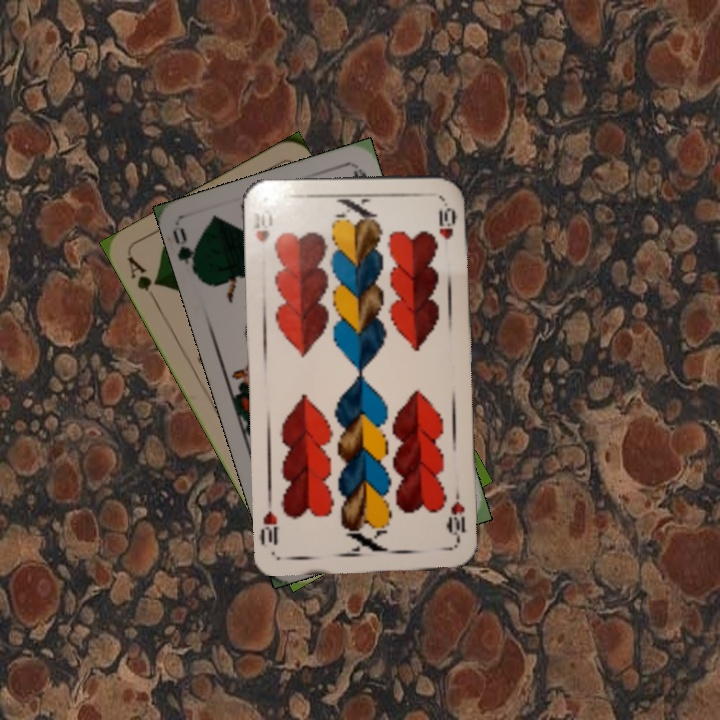GA: (124, 252, 162, 307)
GO: (168, 224, 201, 281)
H10: (444, 486, 468, 545), (249, 205, 275, 246)
